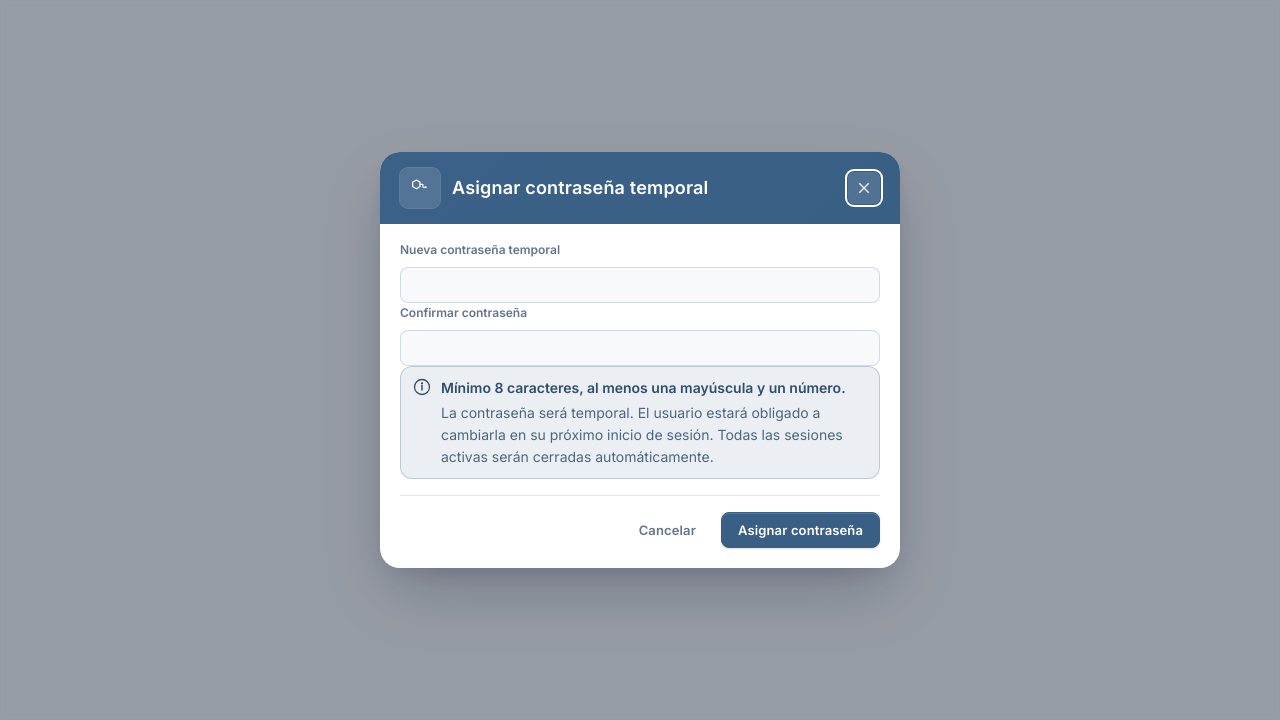
Test: AssignTemporaryPasswordModal — envío › error 422 mapea el mensaje del servidor al campo correspondiente, sin cerrar el modal
Type "Temp0ral!" into the password field labelled "Nueva contraseña temporal" at (640, 285), box [400,267,880,303]
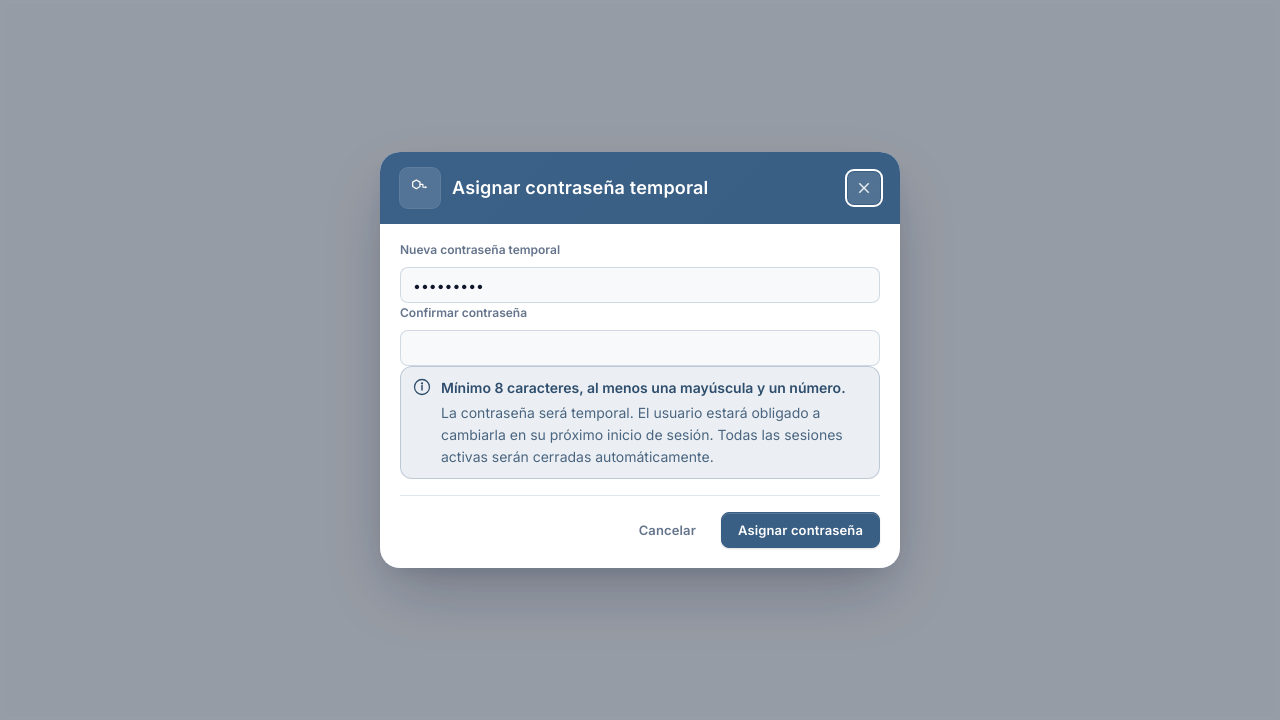
Type "Temp0ral!" into the password field labelled "Confirmar contraseña" at (640, 348), box [400,330,880,366]
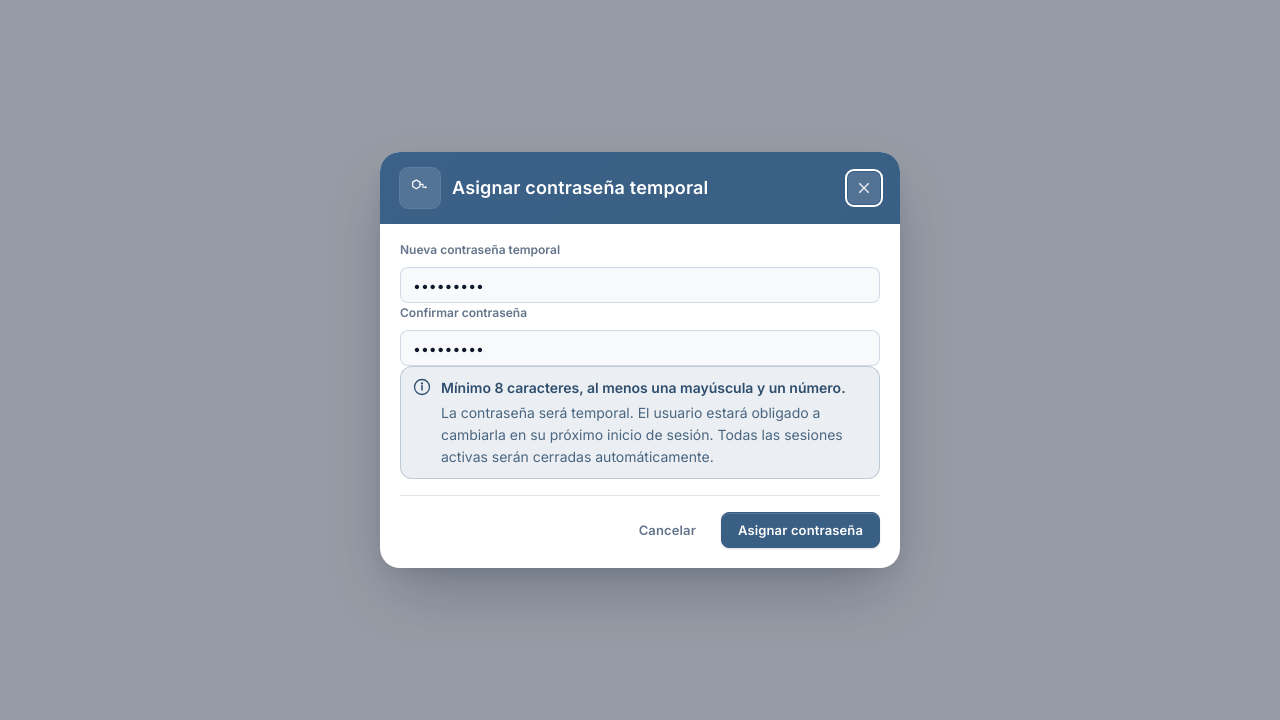
Click the button "Asignar contraseña" at (800, 530), box [721,512,880,548]
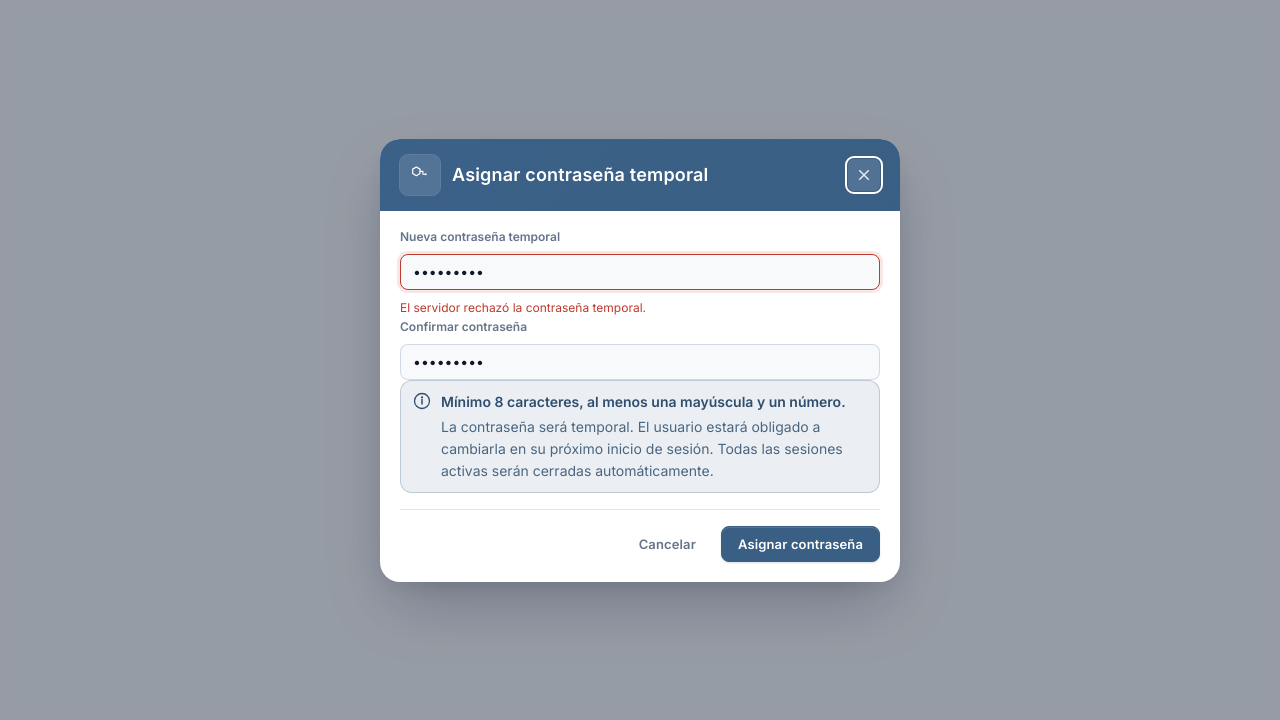
Result: the text "El servidor rechazó la contraseña temporal." is shown at [400,300,646,314]
